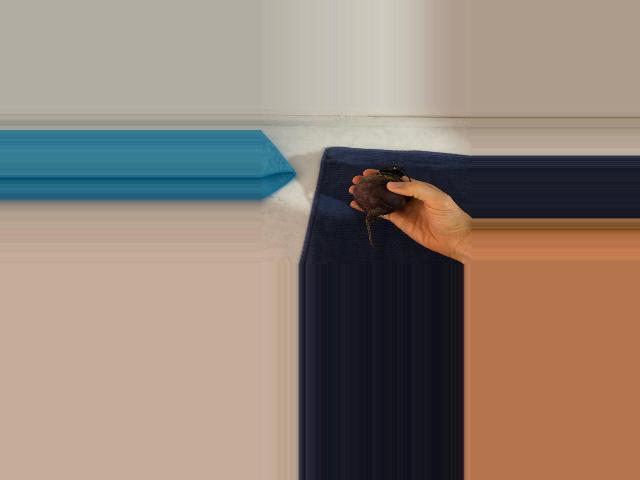beet: (353, 166, 411, 248)
